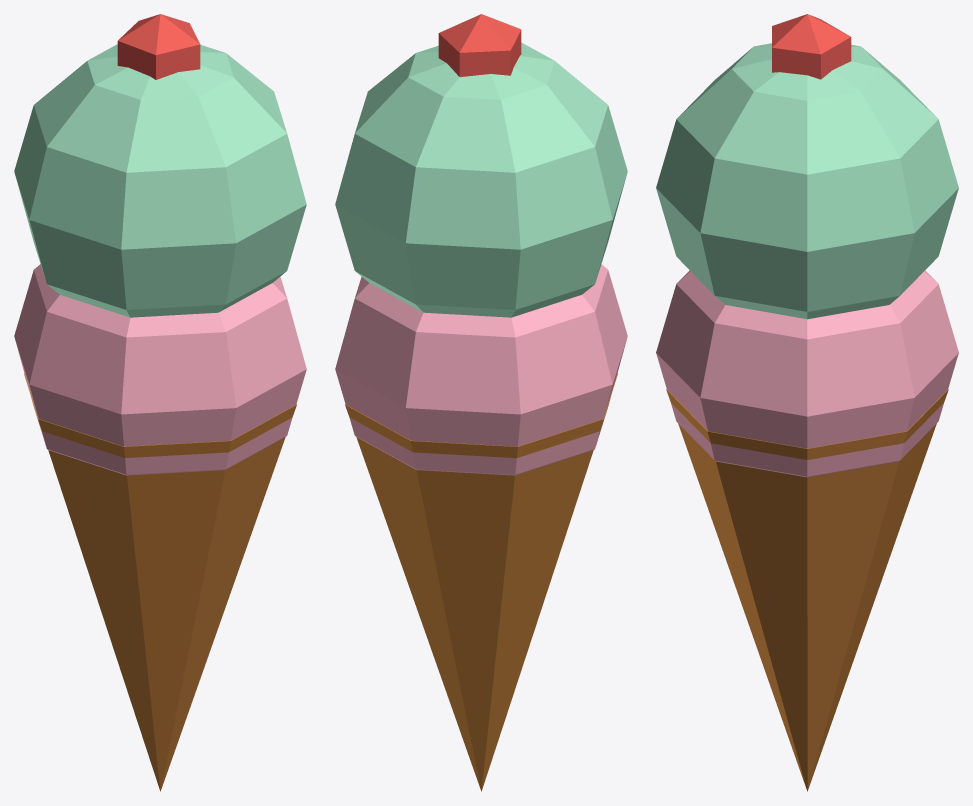
File: good_ice_cream.glb
3 views of the same model, side by side, from view 1: azimuth 30°, elevation 25°; view 2: azimuth 150°, elevation 25°; view 3: azimuth 270°, elevation 25° (orthographic).
Visible parts, largest first — view 1: good_ice_cream; view 2: good_ice_cream; view 3: good_ice_cream.
Boxes of the visible parts, x1,y1,x2,y2 form: good_ice_cream: (14, 14, 306, 791); good_ice_cream: (335, 14, 627, 791); good_ice_cream: (656, 14, 958, 791).
Size of the model in its own units: 0.15 by 0.425 by 0.15.
